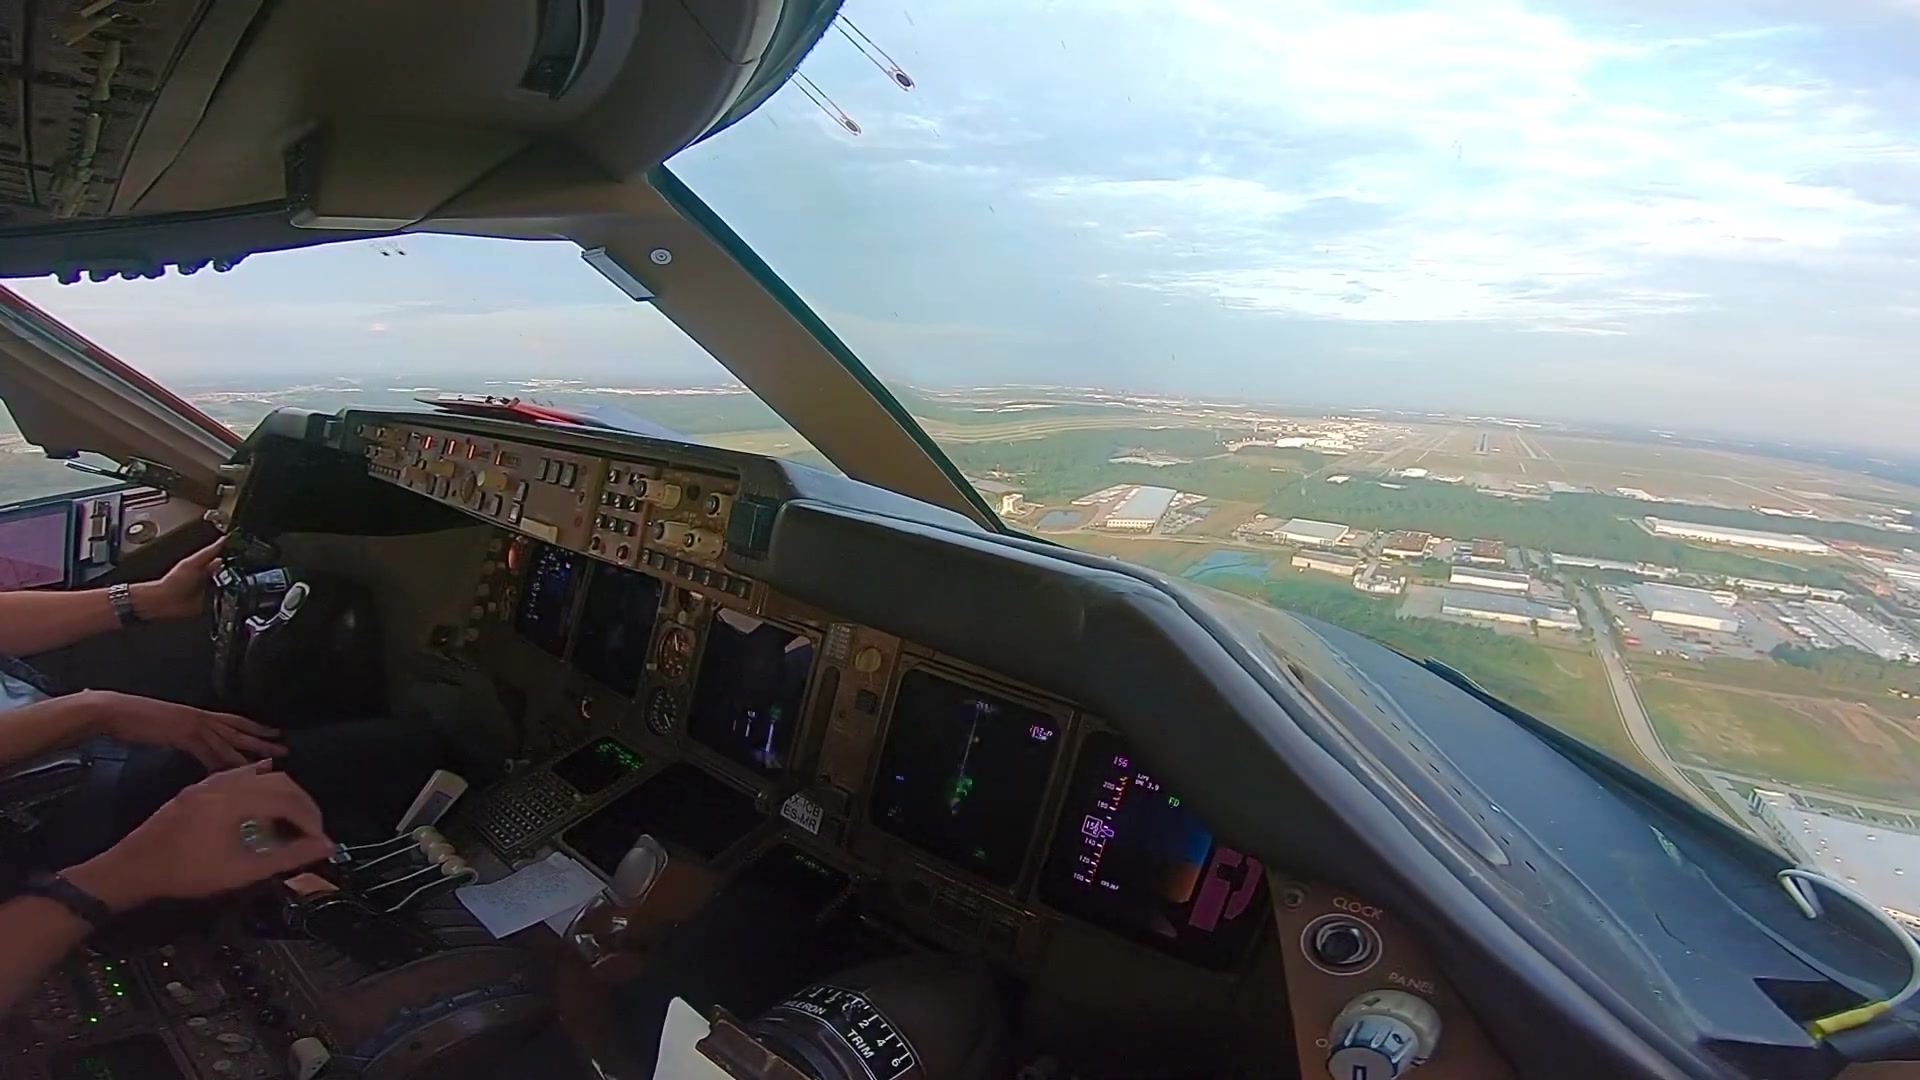runway: (1474, 431, 1490, 455)
